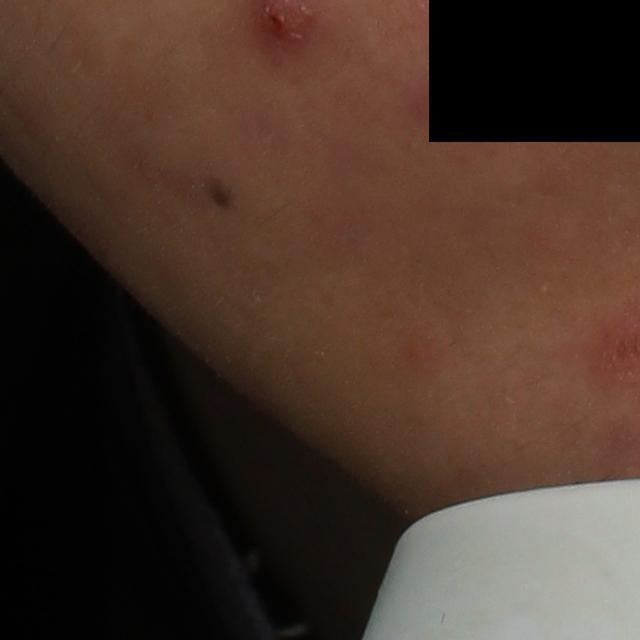nevus: (206, 178, 236, 206)
